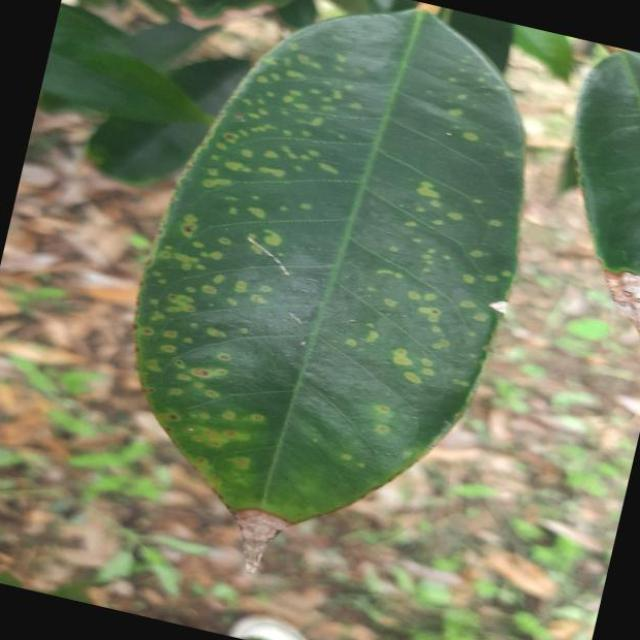Leaf Spot: (80, 0, 584, 606)
